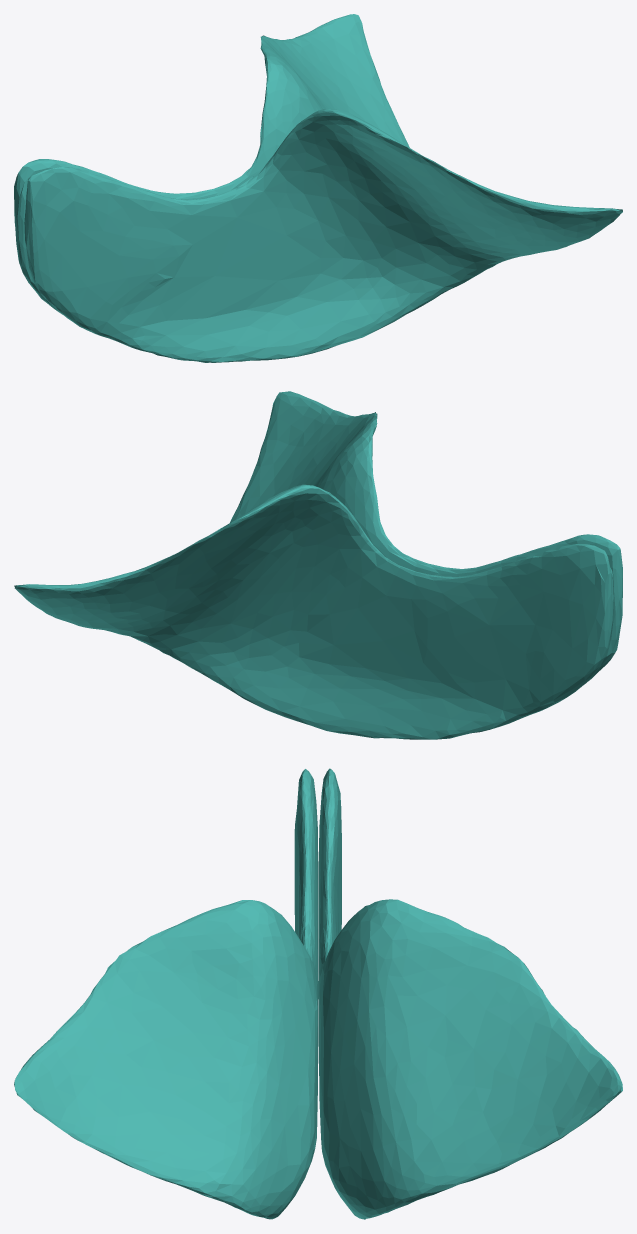
3 renders of one model, top to bottom at view 1: azimuth 30°, elevation 25°; view 2: azimuth 150°, elevation 25°; view 3: azimuth 270°, elevation 25°, orthographic. The views are drawn at different scales.
Parts seen in each view (by area): view 1: 542.obj; view 2: 542.obj; view 3: 542.obj.
Boxes of the visible parts, x1=… form: 542.obj: x1=14, y1=14, x2=622, y2=362; 542.obj: x1=14, y1=391, x2=622, y2=739; 542.obj: x1=14, y1=768, x2=622, y2=1219.
Size of the model in its own units: 3266 by 1681 by 3183.
